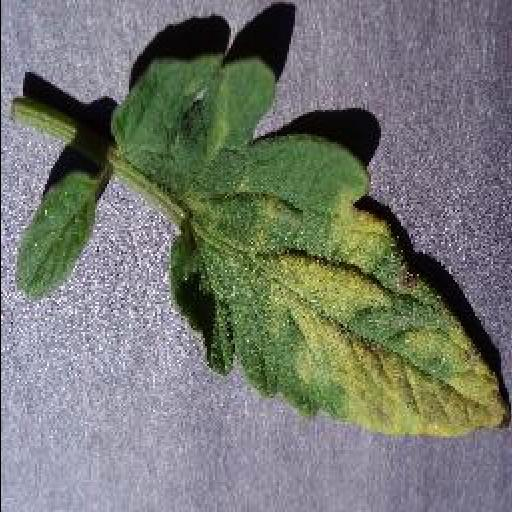disease_tomato: (116, 52, 510, 438)
